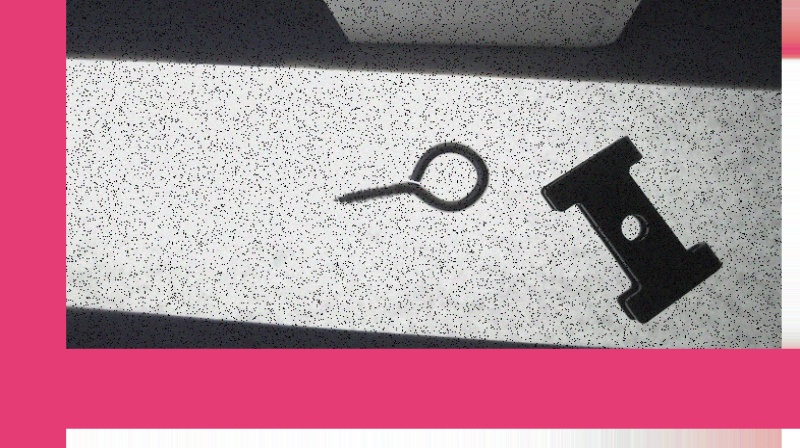O001: (329, 138, 490, 212)
O002: (538, 133, 725, 324)
